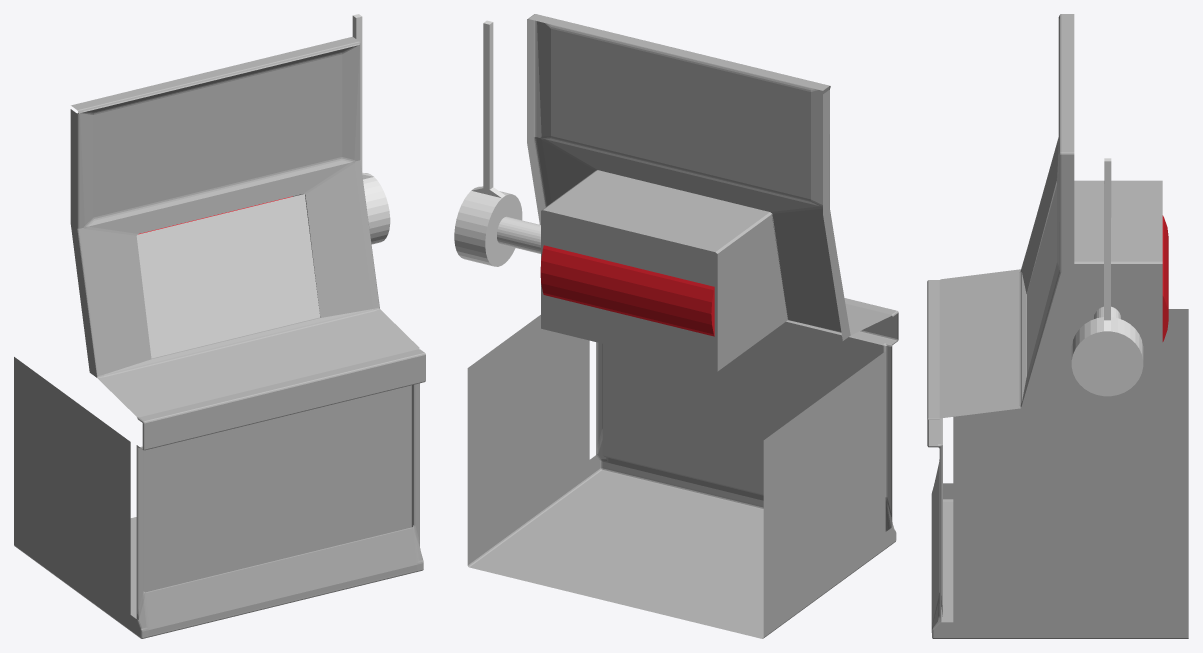
3 renders of one model, left to right at view 1: azimuth 30°, elevation 25°; view 2: azimuth 150°, elevation 25°; view 3: azimuth 270°, elevation 25°, orthographic. The views are drawn at different scales.
Parts seen in each view (by area): view 1: Box, Glass, Rule; view 2: Box, Cylinder, Rule; view 3: Box, Rule, Glass, Cylinder.
Boxes of the visible parts, x1,y1,x2,y2 form: Box: (14,37,425,638); Glass: (136,194,319,358); Rule: (352,14,390,244); Box: (467,14,898,638); Cylinder: (540,245,714,336); Rule: (454,20,540,266); Box: (927,14,1188,638); Rule: (1071,158,1143,396); Glass: (1027,185,1056,374); Cylinder: (1162,215,1168,341).
Size of the model in its own units: 6.04 by 8.81 by 4.26.
